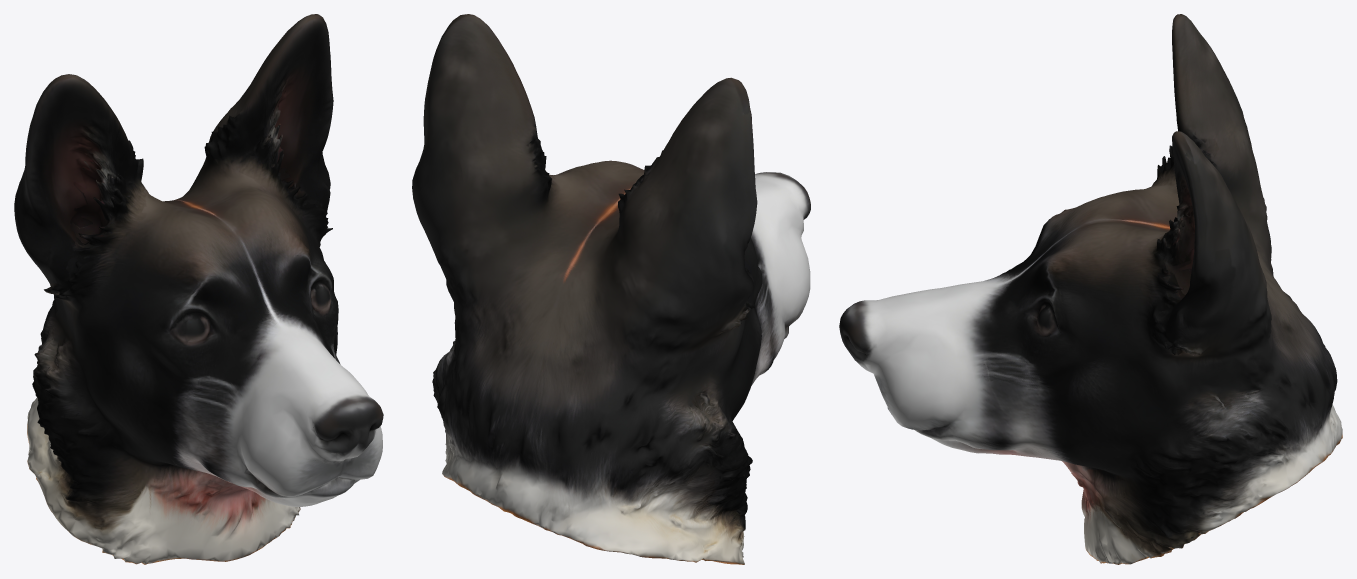
The model's file is 019a6901-d6e2-773b-ab07-fb63febcc808.glb.
The picture shows the model from 3 angles, left to right: view 1: azimuth 30°, elevation 25°; view 2: azimuth 150°, elevation 25°; view 3: azimuth 270°, elevation 25°; orthographic projection. The views are drawn at different scales.
Bounding box in the file's own units: 1.27 × 1.9 × 1.84.
1 material, 1 textured.
